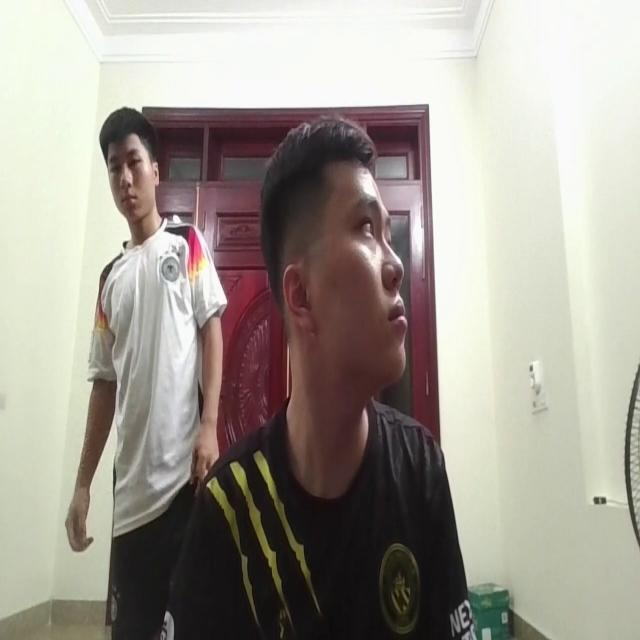extra_person: (54, 91, 213, 542)
student: (171, 106, 478, 640)
